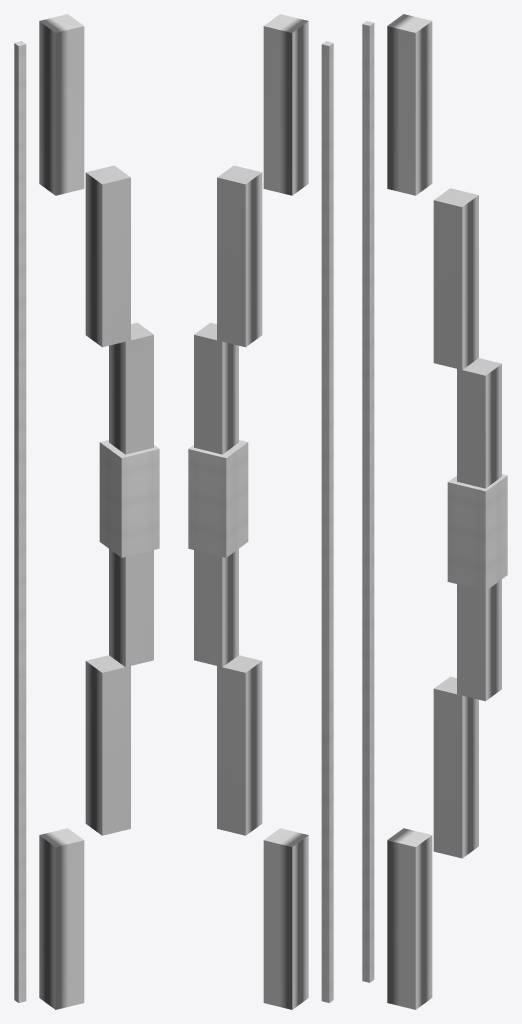
Rendered from bow_great.obj.
3 renders of one model, left to right at view 1: azimuth 30°, elevation 25°; view 2: azimuth 150°, elevation 25°; view 3: azimuth 330°, elevation 25°, orthographic.
Parts seen in each view (by area): view 1: bow_great; view 2: bow_great; view 3: bow_great.
Boxes of the visible parts, x1,y1,x2,y2 form: bow_great: (14, 14, 159, 1009); bow_great: (188, 14, 333, 1009); bow_great: (362, 14, 507, 1009).
Size of the model in its own units: 0.139 by 0.98 by 0.04.
